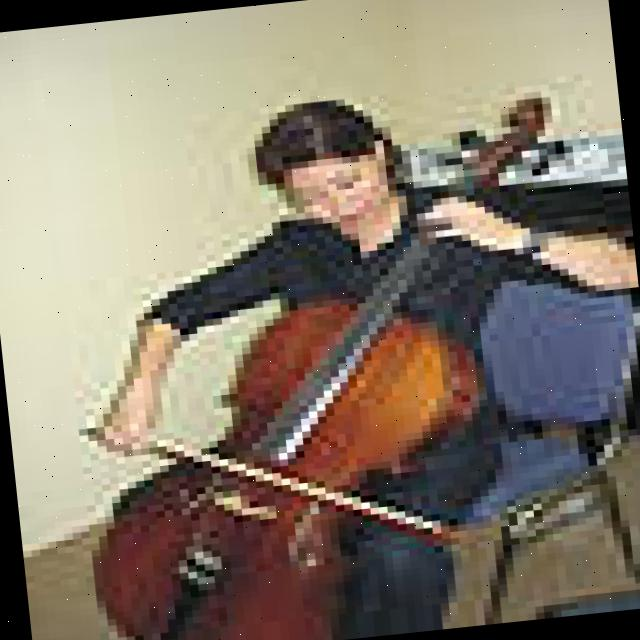cello: (46, 91, 600, 640)
